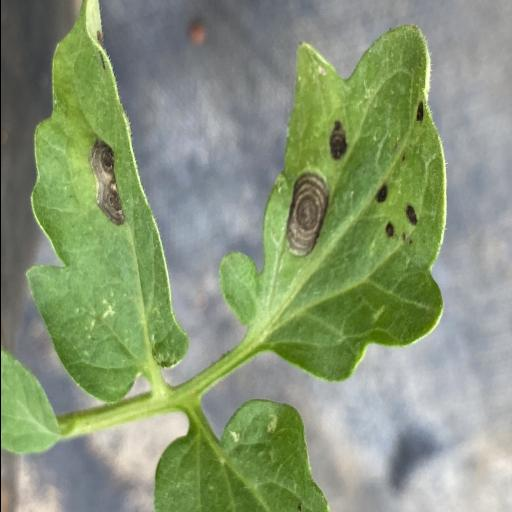Early Blight: (220, 27, 454, 385), (26, 0, 187, 406)
